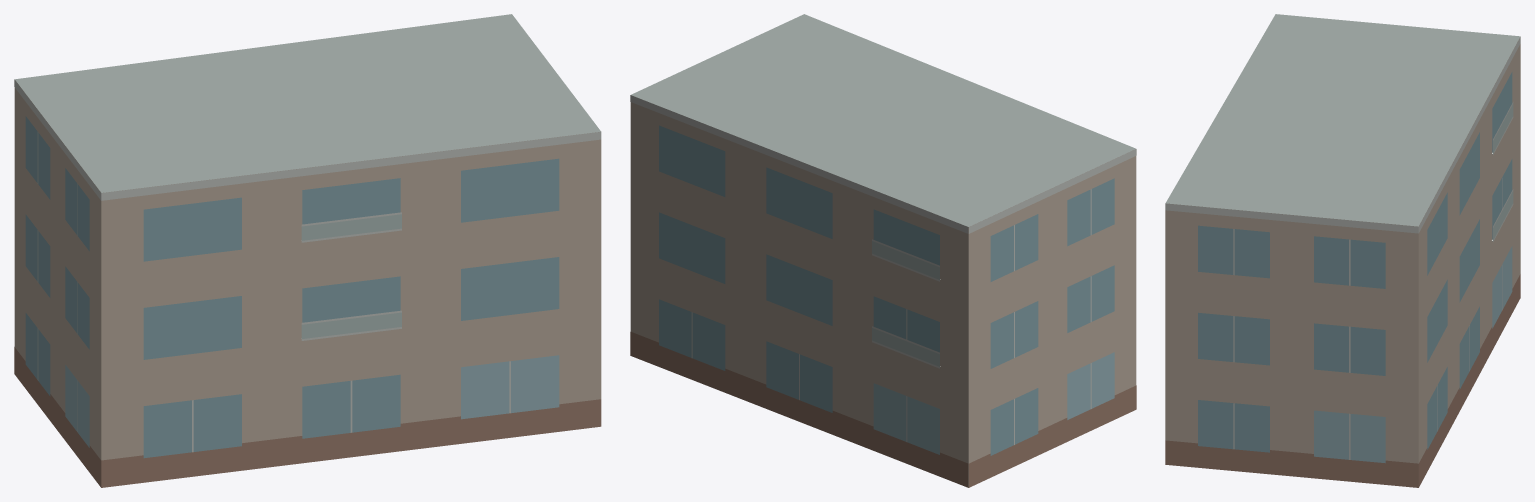
Rendered from survey-upis-32658071.glb.
3 views of the same model, side by side, from view 1: azimuth 30°, elevation 25°; view 2: azimuth 150°, elevation 25°; view 3: azimuth 270°, elevation 25° (orthographic). The views are drawn at different scales.
Visible parts, largest first — view 1: survey-upis-32658071.tmp; view 2: survey-upis-32658071.tmp; view 3: survey-upis-32658071.tmp.
Part boxes in pixels (x1,y1,x2,y2): survey-upis-32658071.tmp: (14, 14, 601, 487); survey-upis-32658071.tmp: (630, 14, 1136, 487); survey-upis-32658071.tmp: (1165, 14, 1520, 487).
Bounding box in the file's own units: 15.97 × 9.15 × 11.28.
